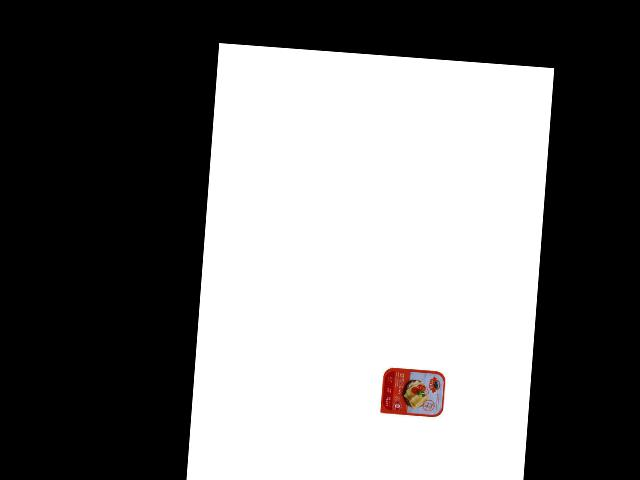cheese: (376, 363, 447, 418)
